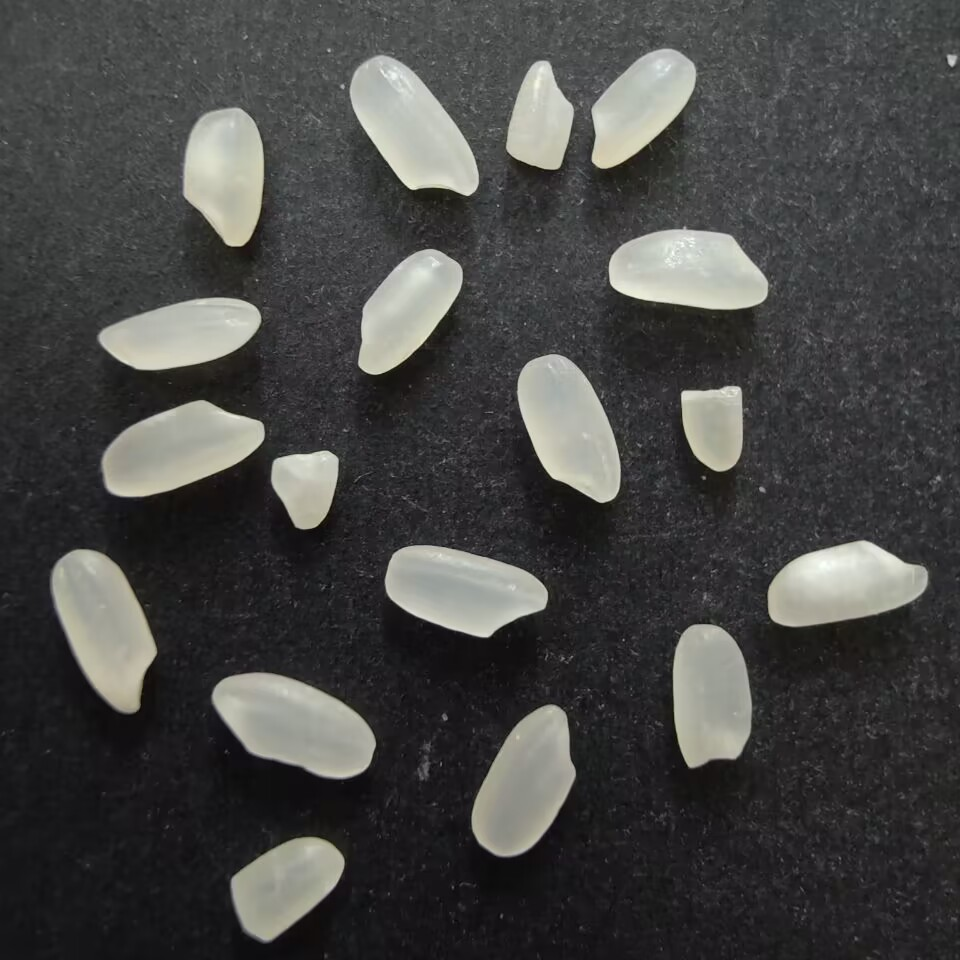broken: (226, 832, 348, 948), (501, 54, 577, 176), (671, 385, 750, 475), (266, 448, 342, 533)
rice: (44, 544, 164, 717), (342, 54, 483, 201), (207, 668, 382, 782), (98, 394, 269, 504), (467, 700, 583, 862), (379, 540, 554, 645), (515, 352, 627, 508), (760, 538, 934, 630), (352, 245, 469, 380), (600, 227, 772, 315), (587, 45, 700, 177), (668, 616, 757, 774), (92, 297, 264, 372), (178, 106, 266, 252)
